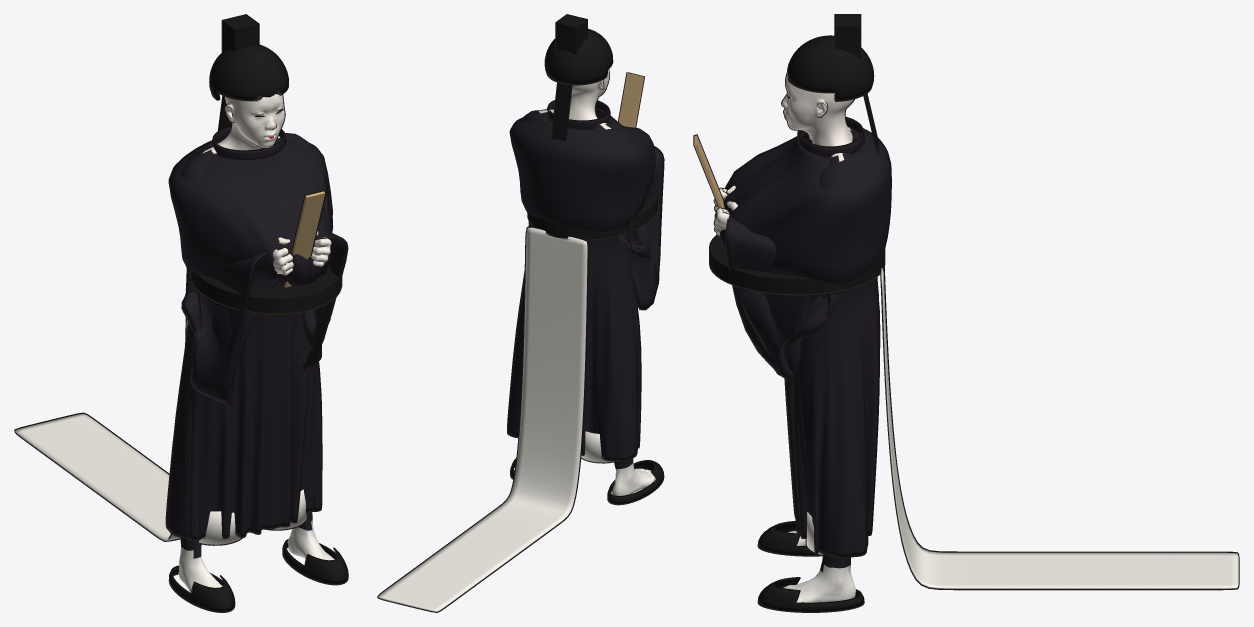
Rendered from sokutai.glb.
3 renders of one model, left to right at view 1: azimuth 30°, elevation 25°; view 2: azimuth 150°, elevation 25°; view 3: azimuth 270°, elevation 25°, orthographic. The views are drawn at different scales.
Visible parts, largest first — view 1: ho, kyo, Human, sode.R, Cylinder, Sphere, ho_sen, sode.L, Cube, asagutsu.L, asagutsu.R, Cube.001 (+6 smaller); view 2: kyo, ho, Human, sode.R, Sphere, kyo_sen, Cylinder, ho_sen, Cube.001, Cube, Cube.002, asagutsu.R (+3 smaller); view 3: ho, kyo, sode.L, Human, Sphere, Cylinder, ho_sen, kyo_sen, asagutsu.L, asagutsu.R, Cube.001, agekubi (+1 smaller).
Boxes of the visible parts, x1,y1,x2,y2 form: ho: (167,138,331,539); kyo: (15,320,187,540); Human: (178,94,334,592); sode.R: (182,252,279,404); Cylinder: (191,266,341,313); Sphere: (210,45,287,100); ho_sen: (165,140,333,540); sode.L: (302,233,347,370); Cube: (284,191,325,287); asagutsu.L: (283,541,347,584); asagutsu.R: (169,567,234,611); Cube.001: (222,15,258,52); kyo: (378,227,587,611); ho: (508,108,655,460); Human: (520,69,655,495); sode.R: (616,147,663,309); Sphere: (545,30,612,84); kyo_sen: (377,226,588,612); Cylinder: (528,191,657,239); ho_sen: (507,109,656,461); Cube.001: (556,15,586,55); Cube: (618,73,644,127); Cube.002: (552,83,571,141); asagutsu.R: (608,461,663,504); ho: (720,130,890,557); kyo: (881,268,1238,588); sode.L: (726,215,843,379); Human: (714,72,859,602); Sphere: (788,36,872,100); Cylinder: (710,236,884,294); ho_sen: (714,128,891,558); kyo_sen: (880,267,1239,590); asagutsu.L: (758,578,863,611); asagutsu.R: (758,522,818,555); Cube.001: (835,15,860,59); agekubi: (798,118,863,155).
Size of the model in its own units: 0.4962 by 1.68 by 1.5.
